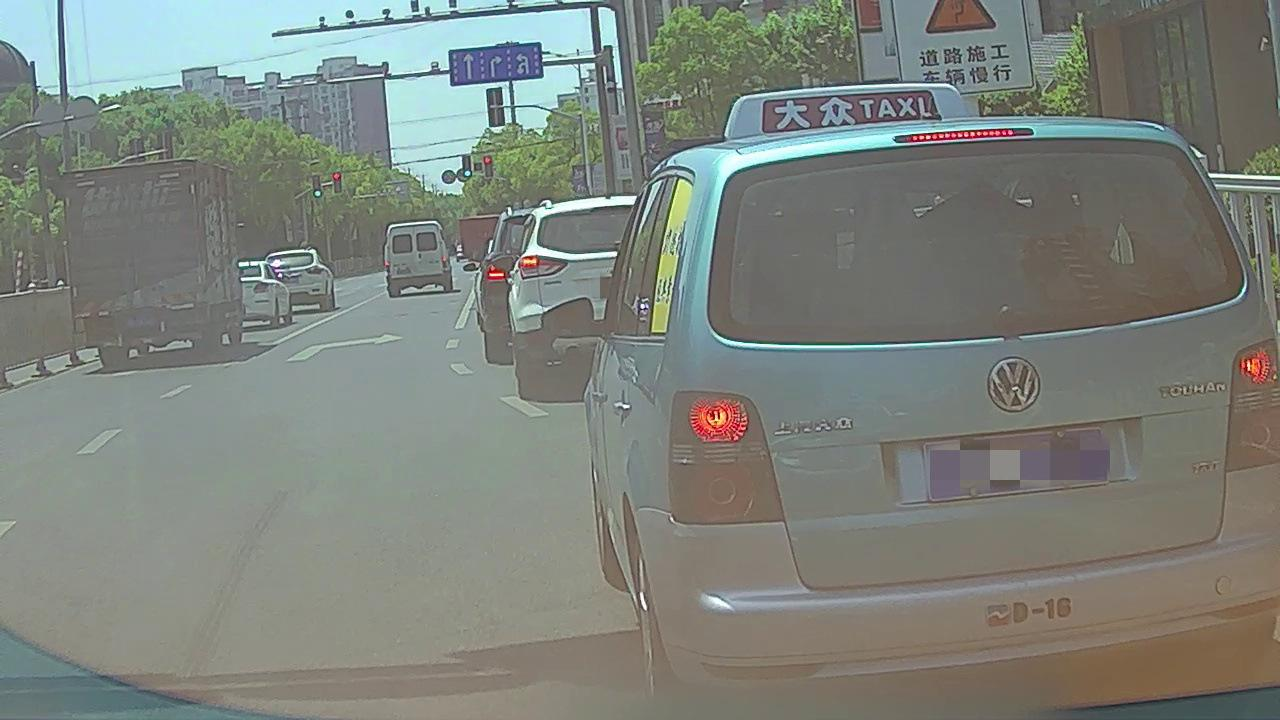traffic_light: (333, 171, 342, 194), (463, 156, 472, 176), (485, 157, 493, 176), (314, 175, 320, 196)
